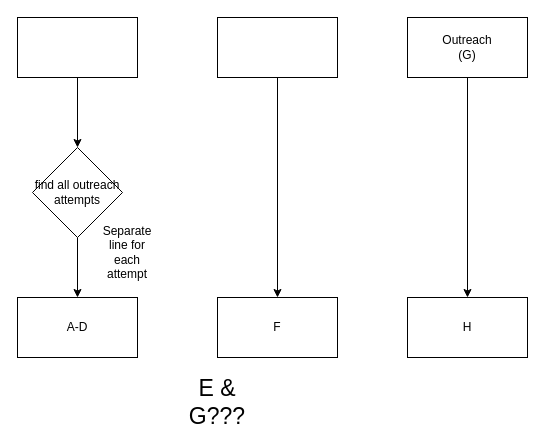
Image size: 545x447. Some labels were removed from this diagram. The shapes that lost their labels are listed below. From the top down, each one's centre as x and y in pixels, then its label:
At (77,47): "MIF".
At (277,47): "Outreach (E)".
